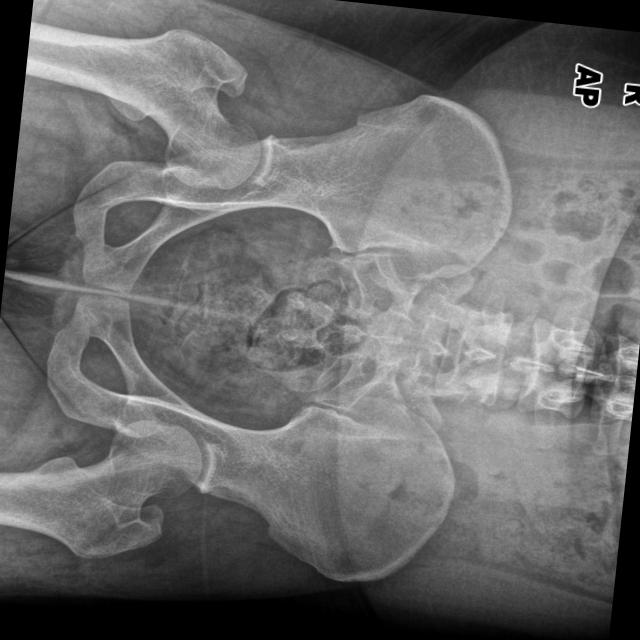normal-left: (0, 420, 201, 558)
normal-right: (24, 20, 259, 189)
